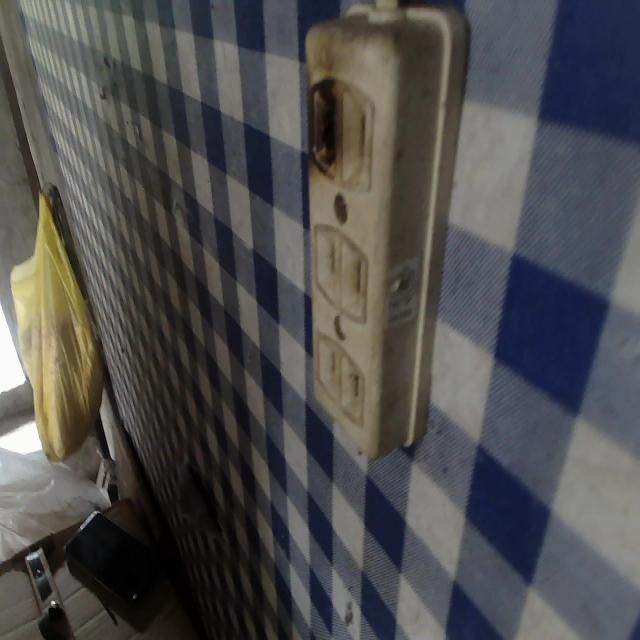-: (306, 72, 343, 181)
